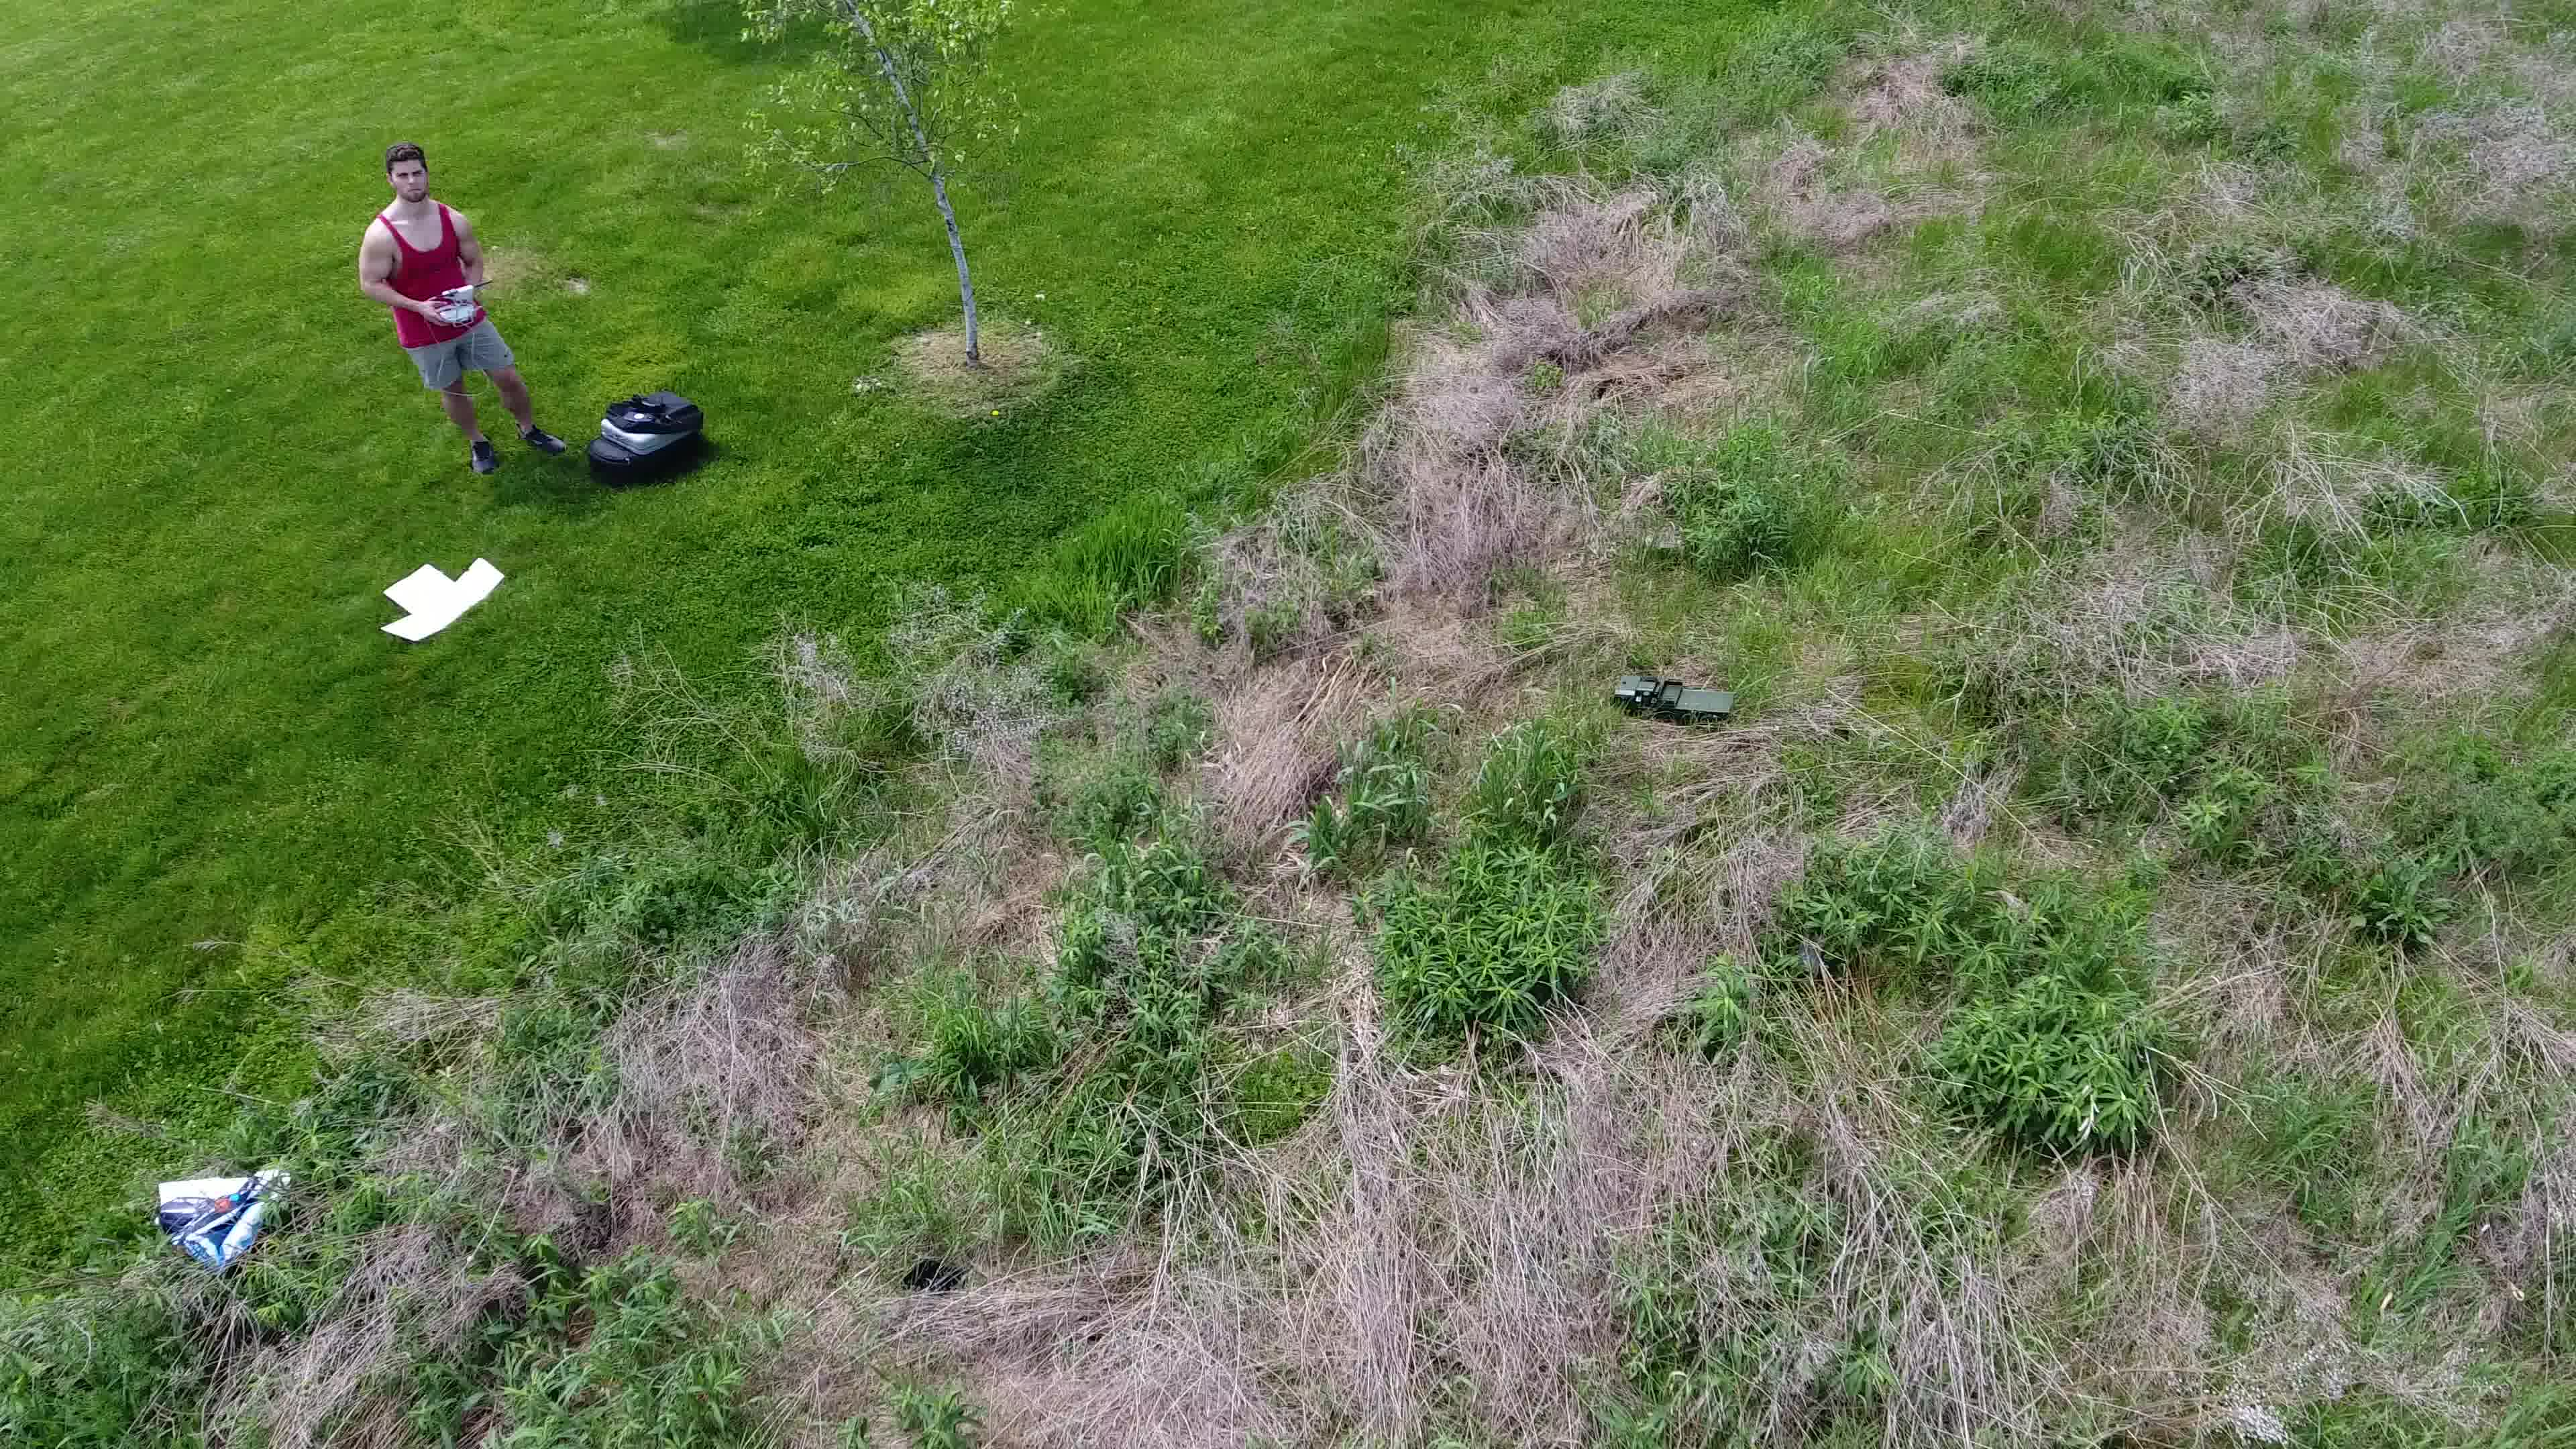transporter9: (1606, 669, 1739, 731)
